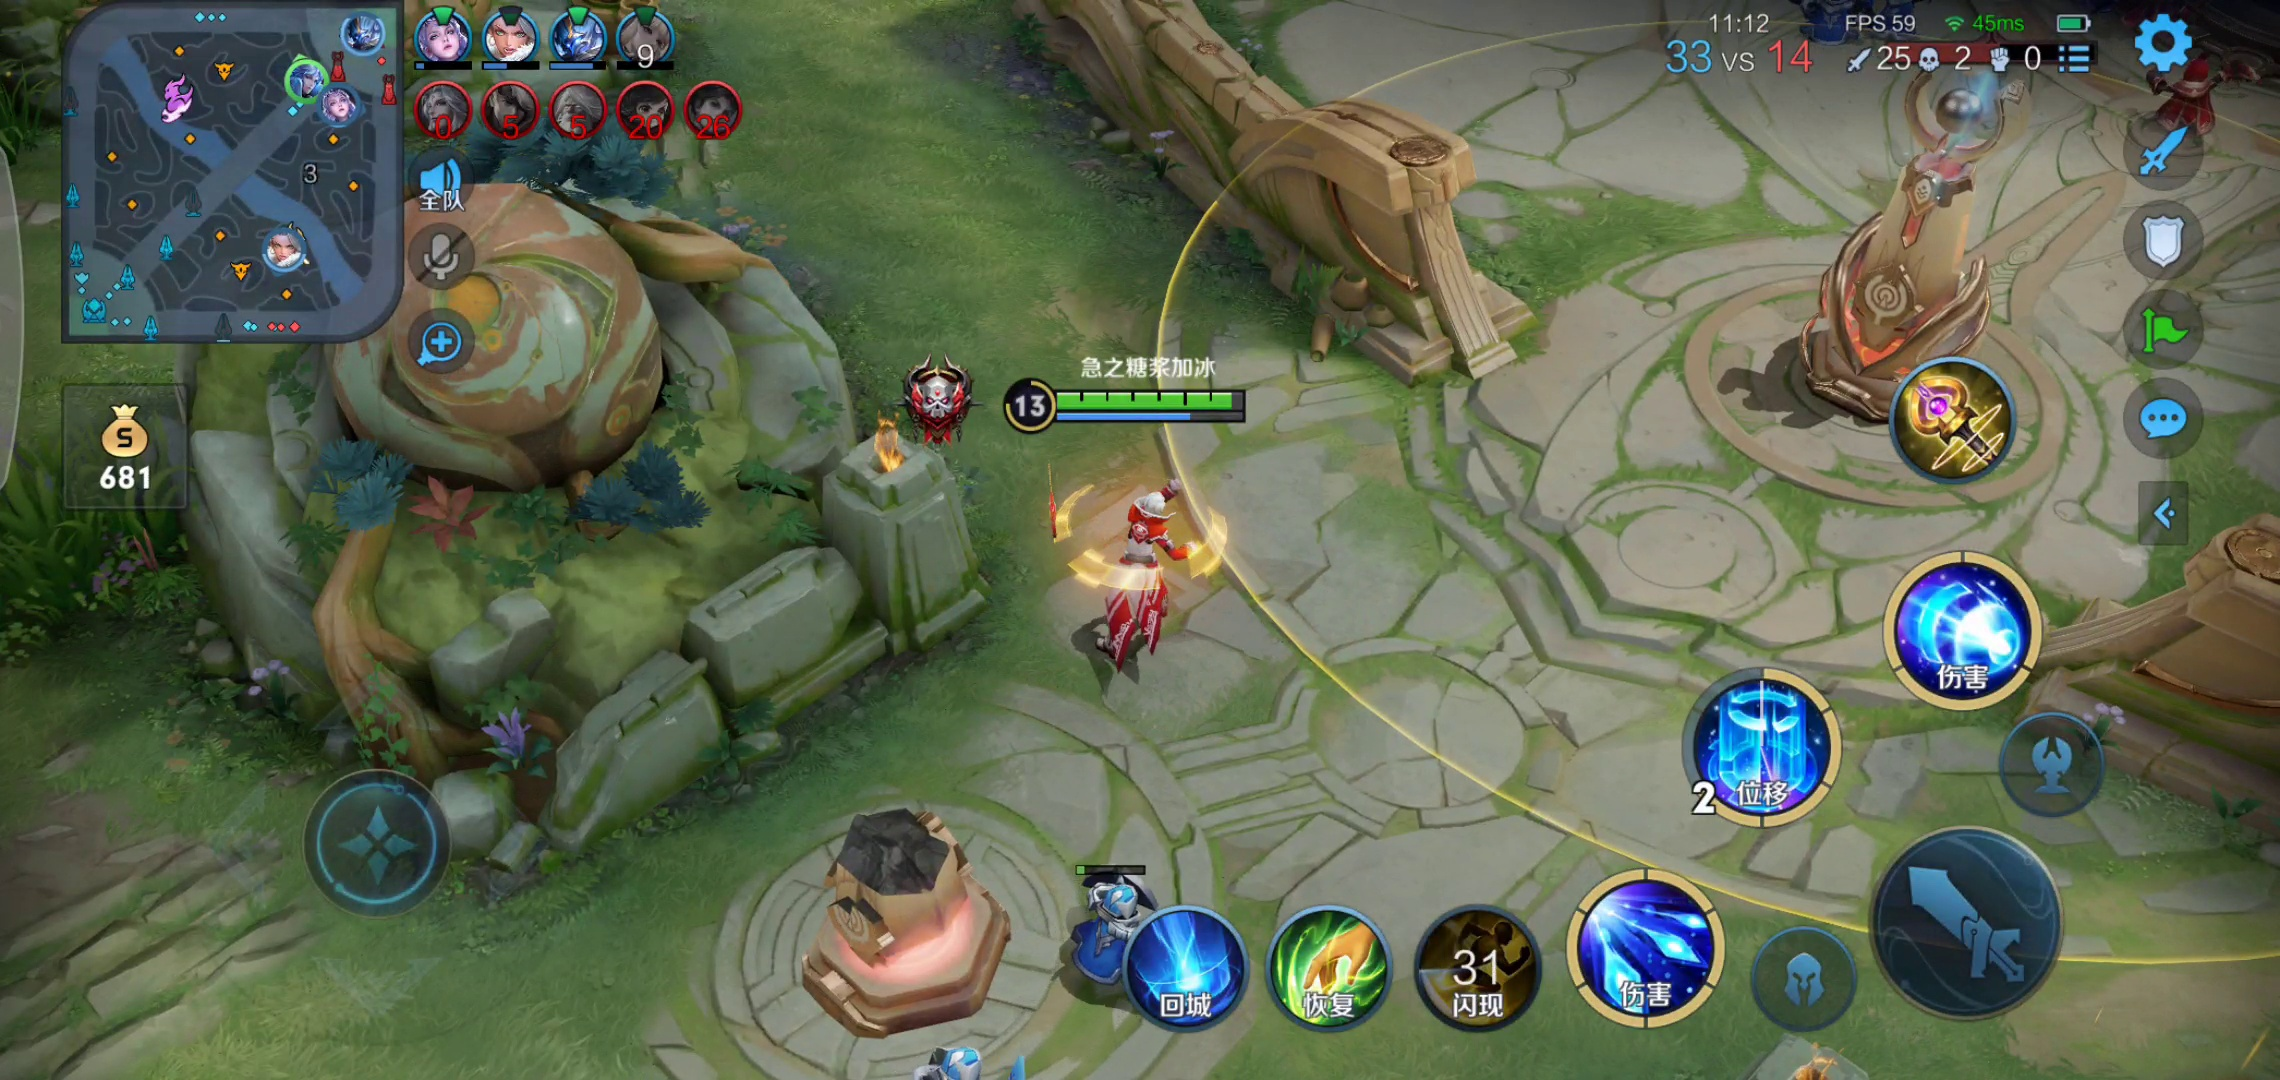grass: (1, 443, 192, 632)
hero: (1057, 456, 1213, 658)
soldier: (1069, 874, 1157, 996), (2149, 60, 2244, 153), (904, 1041, 1027, 1080)
tower: (1771, 49, 2053, 456), (797, 788, 1011, 1025)
